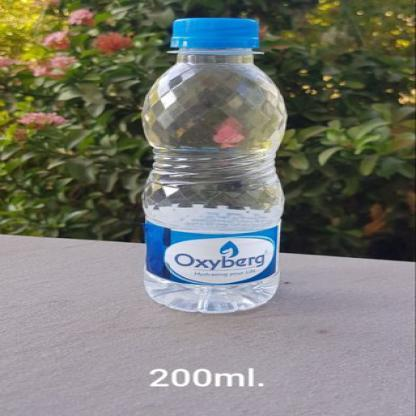plastic_bottle: (136, 16, 289, 317)
